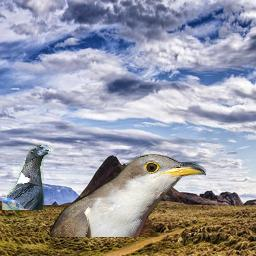Crow: (2, 145, 51, 210)
Cuckoo: (50, 154, 206, 237)
